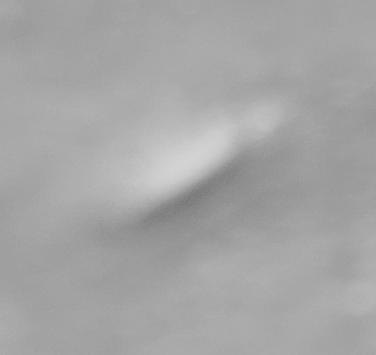dent: (0, 1, 376, 355)
